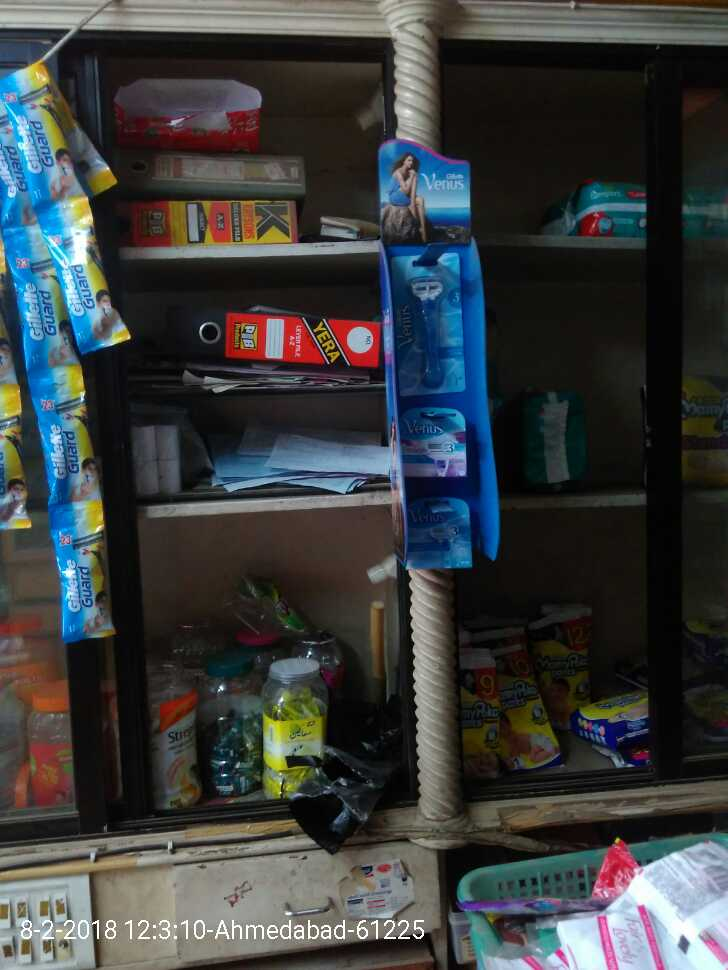beauty: (43, 207, 130, 345), (384, 250, 462, 393), (8, 240, 86, 381), (46, 506, 117, 640), (39, 389, 101, 503), (406, 486, 475, 578), (392, 410, 471, 475)
